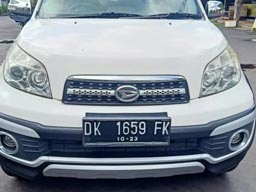plat: (82, 118, 171, 134)
